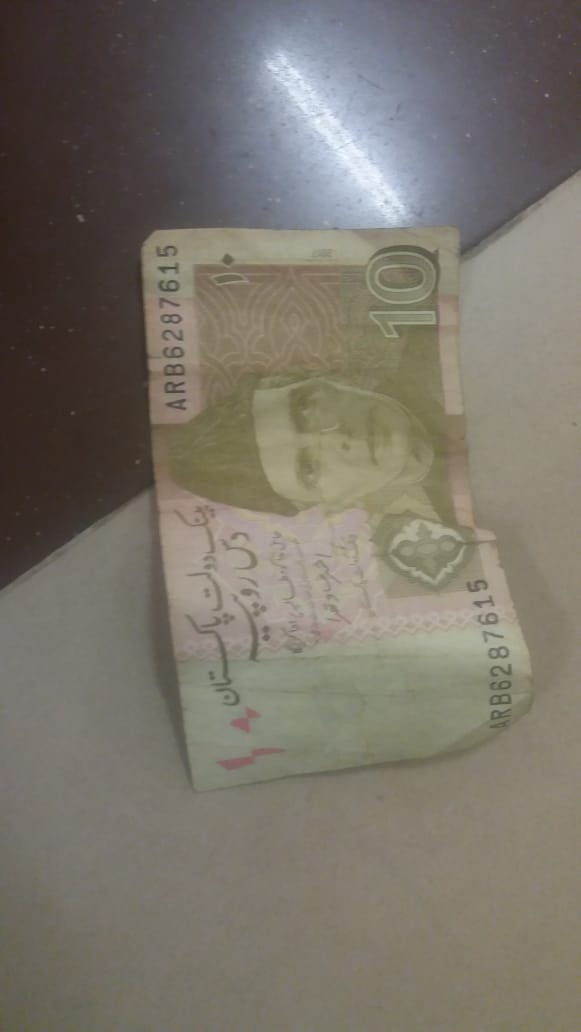10 rupee: (148, 217, 541, 786)
